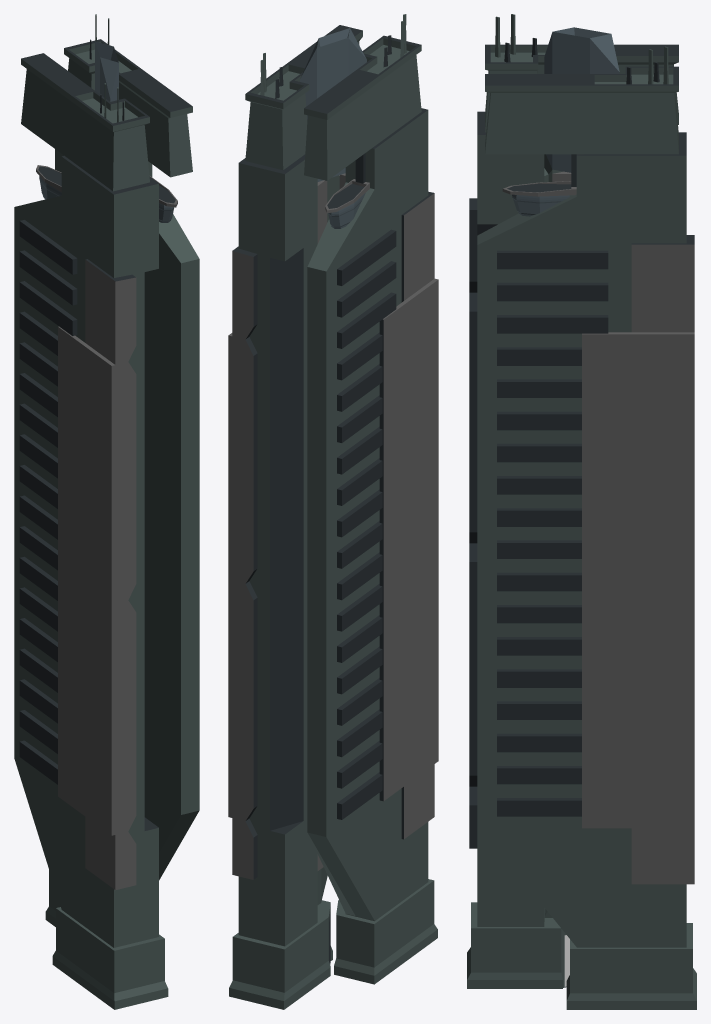
Rendered from building_48.fbx.
3 renders of one model, left to right at view 1: azimuth 30°, elevation 25°; view 2: azimuth 150°, elevation 25°; view 3: azimuth 270°, elevation 25°, orthographic. The views are drawn at different scales.
Visible parts, largest first — view 1: building_48; view 2: building_48; view 3: building_48.
Boxes of the visible parts, x1,y1,x2,y2 form: building_48: (14,14,199,1009); building_48: (228,14,438,1009); building_48: (467,14,696,1009).
Size of the model in its own units: 557 by 4930 by 1078.
